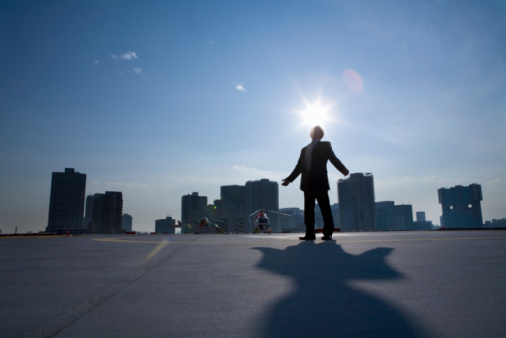em pe: (269, 125, 348, 237)
